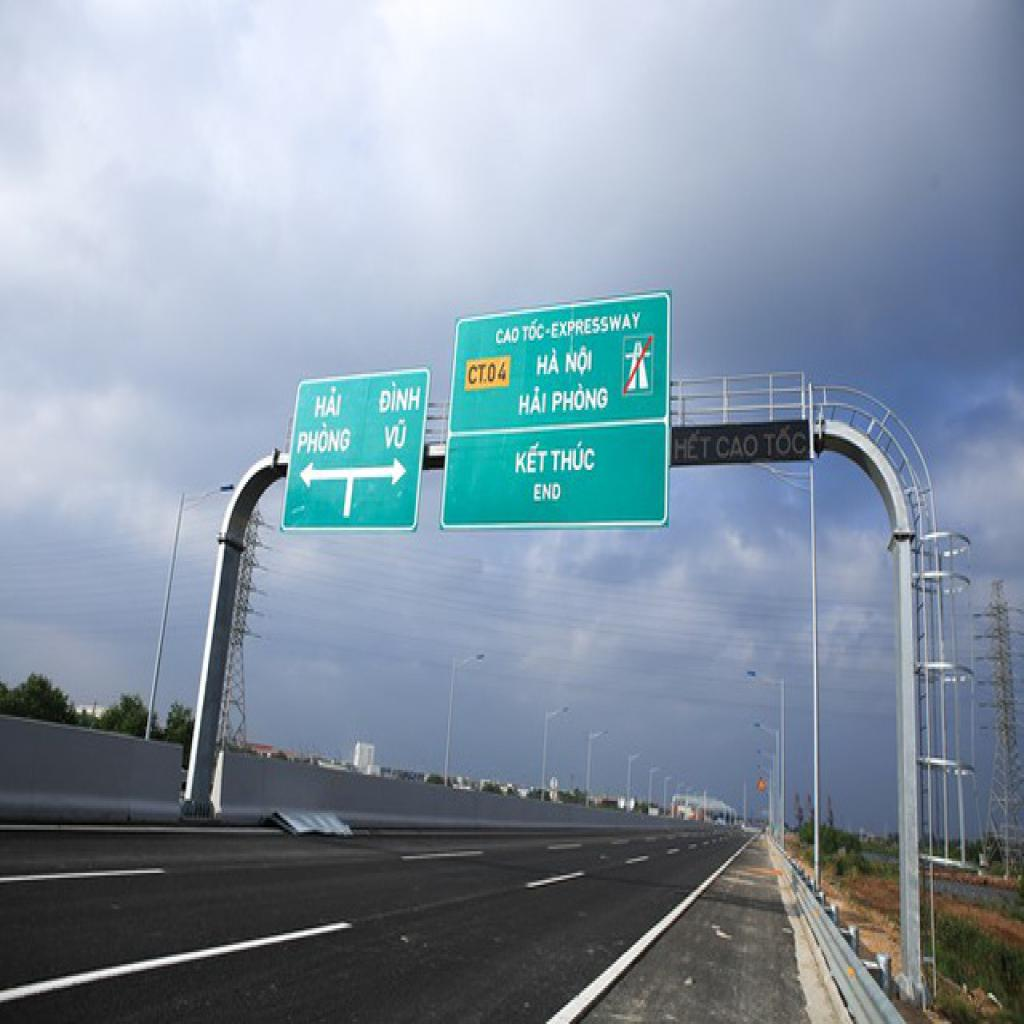text: (550, 310, 644, 340), (296, 417, 354, 458), (550, 382, 610, 418), (549, 436, 598, 478), (376, 379, 424, 417), (672, 427, 714, 468), (514, 438, 550, 480), (715, 432, 760, 465), (563, 343, 597, 381), (467, 358, 509, 388), (515, 384, 549, 420), (314, 384, 346, 420), (382, 417, 412, 451), (534, 345, 562, 379), (532, 482, 562, 508), (496, 324, 523, 348), (522, 319, 546, 345)
